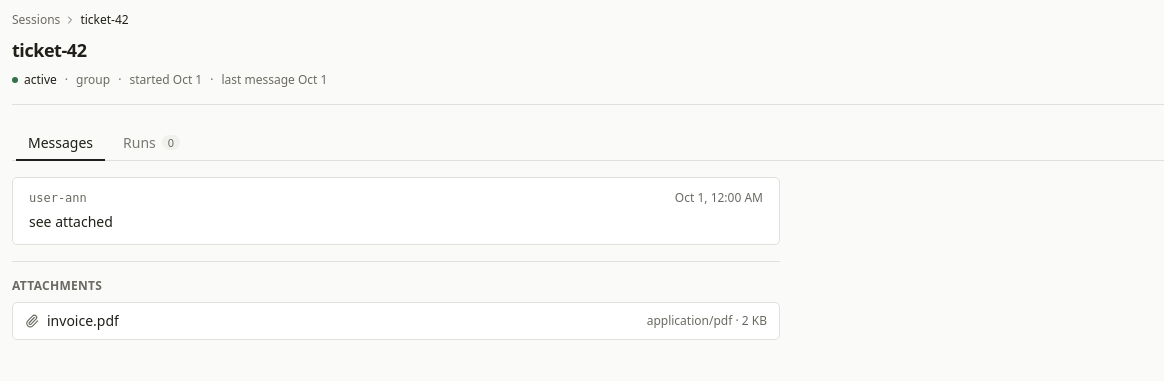
the messages › shows why an attachment could not be downloaded
Check: the heading "ticket-42" is shown, box [12,38,86,62]
Click the button with aria-label "download invoice.pdf" at coordinates (72, 321), box [25,311,119,331]
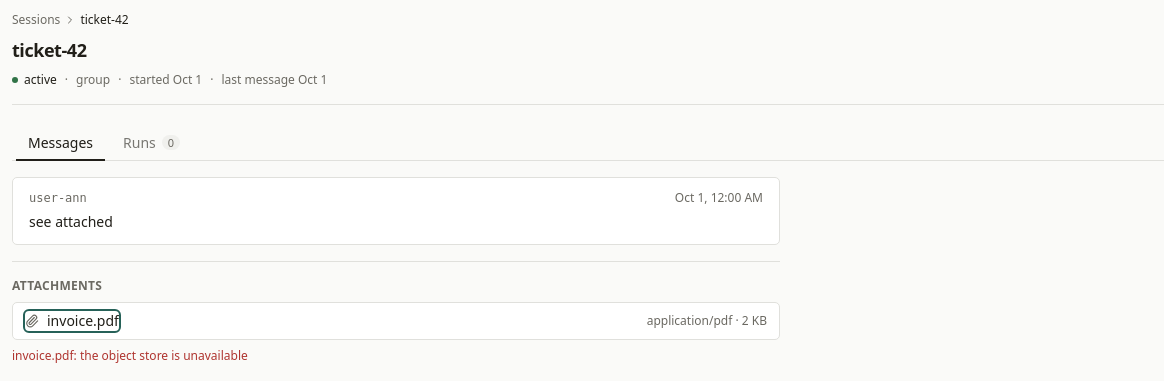
Check: the text "invoice.pdf: the object store is unavailable" is shown, box [12,347,248,364]
